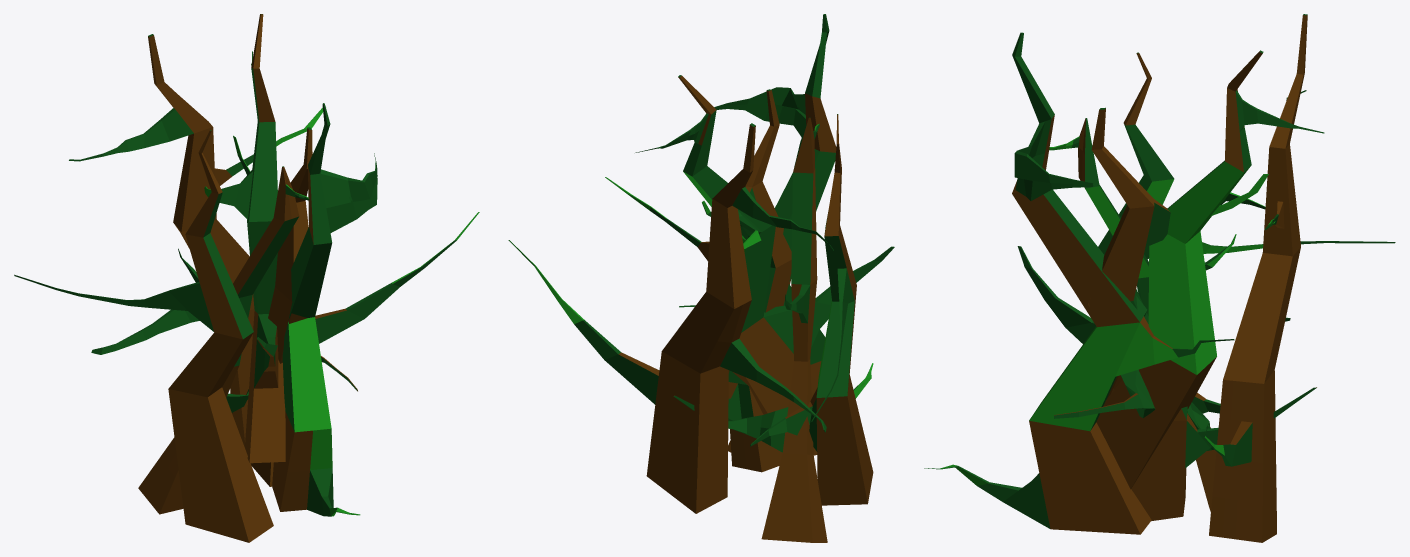
The model's file is Snare_Roots.fbx.
3 renders of one model, left to right at view 1: azimuth 30°, elevation 25°; view 2: azimuth 150°, elevation 25°; view 3: azimuth 270°, elevation 25°, orthographic. The views are drawn at different scales.
Parts seen in each view (by area): view 1: Bullet.001; view 2: Bullet.001; view 3: Bullet.001.
Part boxes in pixels (x1=…): Bullet.001: x1=14, y1=14, x2=479, y2=542; Bullet.001: x1=508, y1=14, x2=894, y2=542; Bullet.001: x1=924, y1=14, x2=1395, y2=542.
Bounding box in the file's own units: 312 × 355 × 287.
